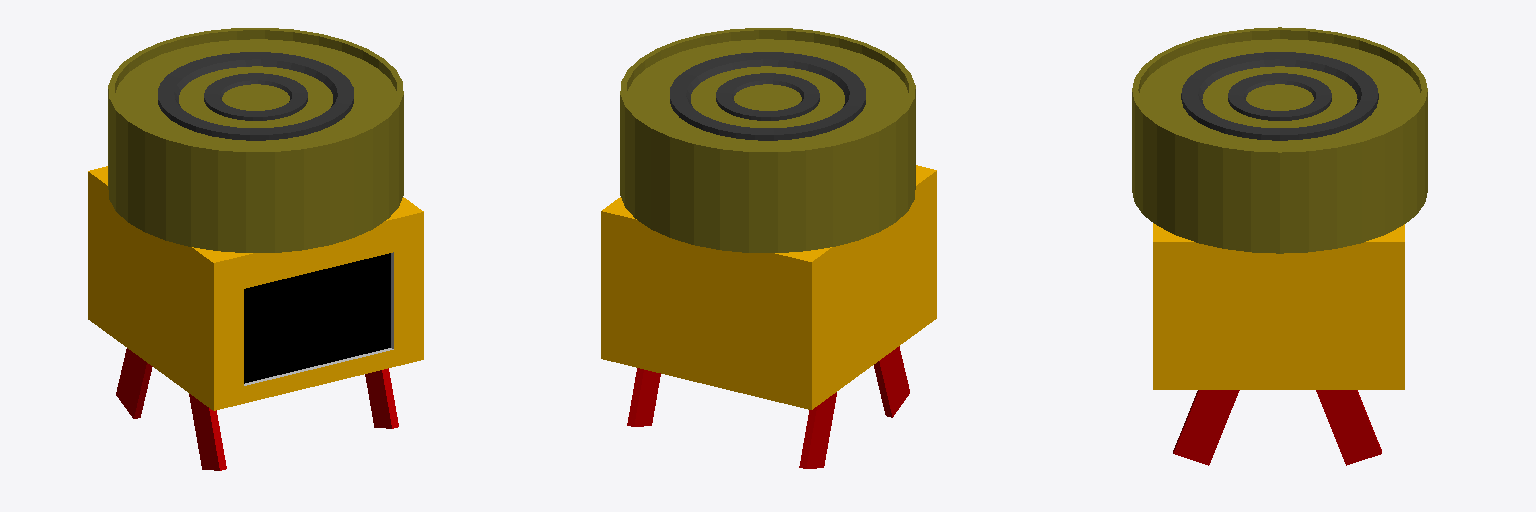
The model's file is black_counter.obj.
3 renders of one model, left to right at view 1: azimuth 30°, elevation 25°; view 2: azimuth 150°, elevation 25°; view 3: azimuth 270°, elevation 25°, orthographic.
Parts seen in each view (by area): view 1: Cylinder_Cylinder.002, Cube, Cube.005, Cylinder.001_Cylinder.001, Cylinder.002_Cylinder.001, Cube.001, Cube.004, Cube.002; view 2: Cylinder_Cylinder.002, Cube, Cylinder.001_Cylinder.001, Cylinder.002_Cylinder.001, Cube.004, Cube.001, Cube.003; view 3: Cylinder_Cylinder.002, Cube, Cylinder.001_Cylinder.001, Cube.002, Cube.003, Cylinder.002_Cylinder.001.
Part boxes in pixels (bbox=[...]): Cylinder_Cylinder.002: bbox=[108, 28, 403, 252]; Cube: bbox=[88, 166, 423, 410]; Cube.005: bbox=[244, 253, 390, 383]; Cylinder.001_Cylinder.001: bbox=[158, 52, 353, 140]; Cylinder.002_Cylinder.001: bbox=[204, 73, 307, 120]; Cube.001: bbox=[189, 394, 226, 470]; Cube.004: bbox=[116, 348, 152, 418]; Cube.002: bbox=[365, 368, 398, 428]; Cylinder_Cylinder.002: bbox=[620, 28, 915, 252]; Cube: bbox=[601, 165, 936, 409]; Cylinder.001_Cylinder.001: bbox=[670, 52, 865, 140]; Cylinder.002_Cylinder.001: bbox=[716, 73, 819, 120]; Cube.004: bbox=[799, 392, 836, 468]; Cube.001: bbox=[874, 346, 909, 417]; Cube.003: bbox=[627, 368, 660, 426]; Cylinder_Cylinder.002: bbox=[1132, 27, 1427, 253]; Cube: bbox=[1153, 223, 1404, 389]; Cylinder.001_Cylinder.001: bbox=[1181, 52, 1378, 140]; Cube.002: bbox=[1173, 390, 1239, 465]; Cube.003: bbox=[1316, 390, 1381, 465]; Cylinder.002_Cylinder.001: bbox=[1228, 73, 1331, 120].
Bounding box in the file's own units: 0.1381 × 0.1708 × 0.1381.